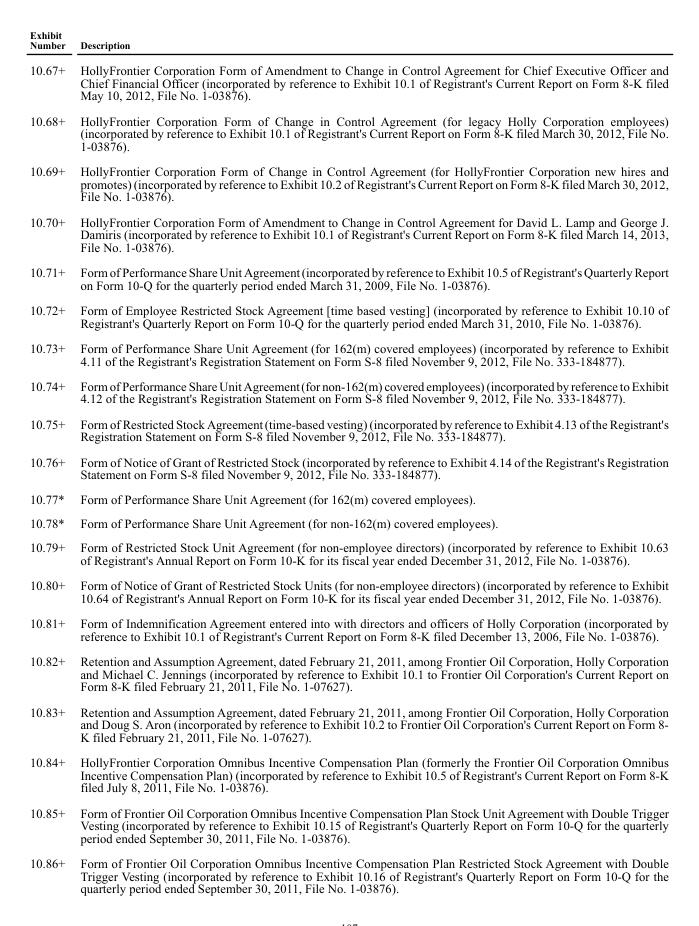table: (28, 28, 668, 895)
table column: (72, 28, 668, 895), (28, 28, 72, 895)
table column header: (28, 28, 668, 56)
table row: (28, 56, 668, 107), (28, 107, 668, 158), (28, 208, 668, 259), (28, 698, 668, 749), (28, 799, 668, 850), (28, 158, 668, 208), (28, 648, 668, 698), (28, 749, 668, 799), (28, 850, 668, 895), (28, 259, 668, 297), (28, 297, 668, 335), (28, 372, 668, 410), (28, 410, 668, 448), (28, 448, 668, 486), (28, 572, 668, 610), (28, 610, 668, 648), (28, 335, 668, 372), (28, 535, 668, 572), (28, 28, 668, 56), (28, 486, 668, 511), (28, 511, 668, 535)
